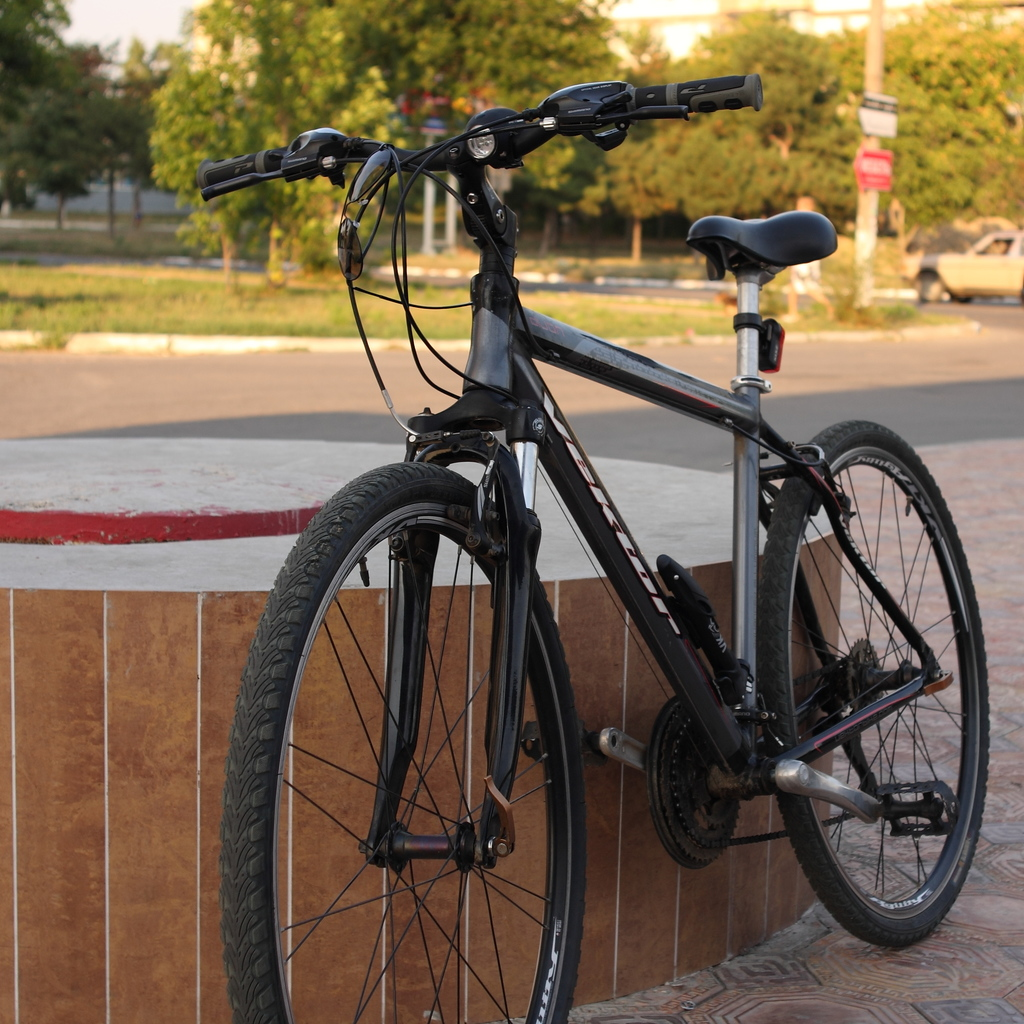Bike: (168, 83, 989, 1024)
